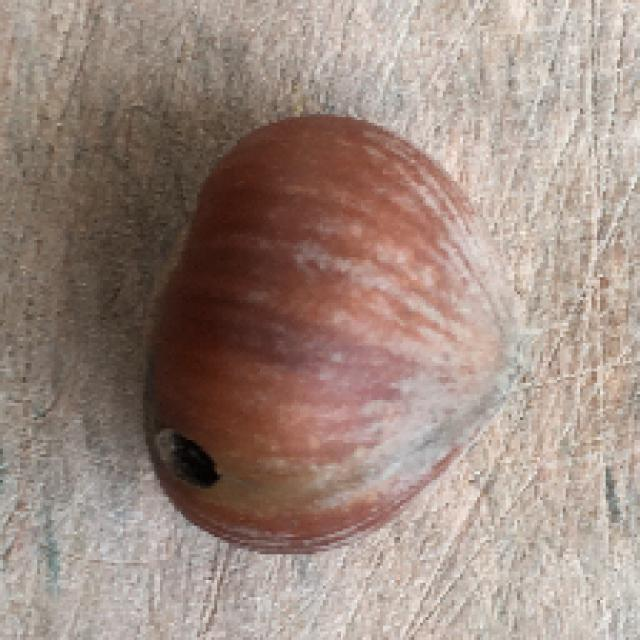damagedHazelnut: (135, 103, 533, 560)
